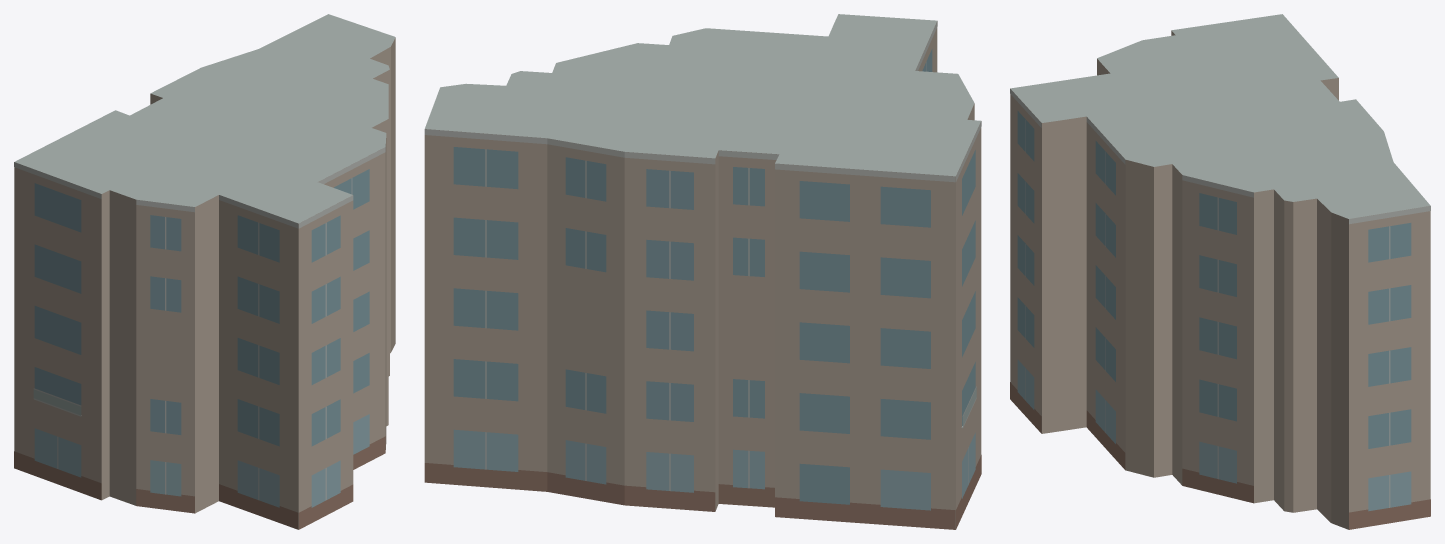
Rendered from survey-upis-32667683.glb.
3 renders of one model, left to right at view 1: azimuth 30°, elevation 25°; view 2: azimuth 150°, elevation 25°; view 3: azimuth 270°, elevation 25°, orthographic. The views are drawn at different scales.
Parts seen in each view (by area): view 1: survey-upis-32667683.tmp; view 2: survey-upis-32667683.tmp; view 3: survey-upis-32667683.tmp.
Boxes of the visible parts, left/top/right/bottom form: survey-upis-32667683.tmp: left=14, top=14, right=395, bottom=529; survey-upis-32667683.tmp: left=424, top=14, right=981, bottom=529; survey-upis-32667683.tmp: left=1010, top=14, right=1430, bottom=529.
Size of the model in its own units: 20.38 by 14.4 by 17.67.
